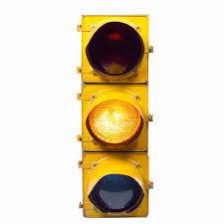semaforo: (81, 15, 148, 218)
